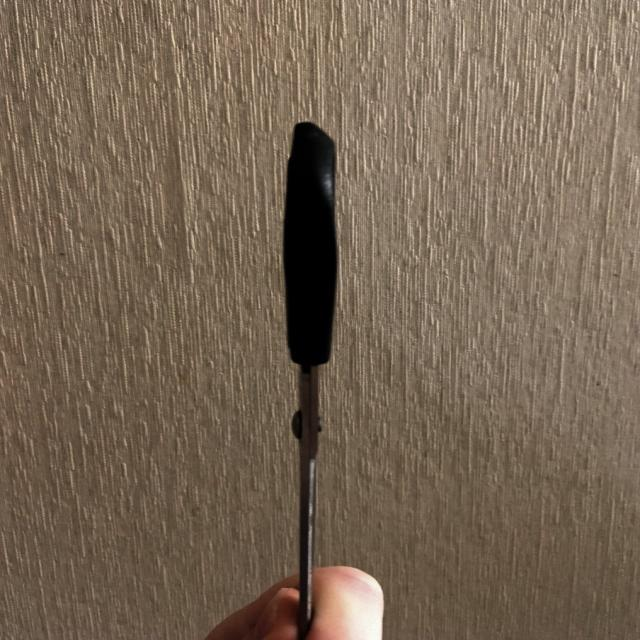scissors: (280, 118, 333, 622)
